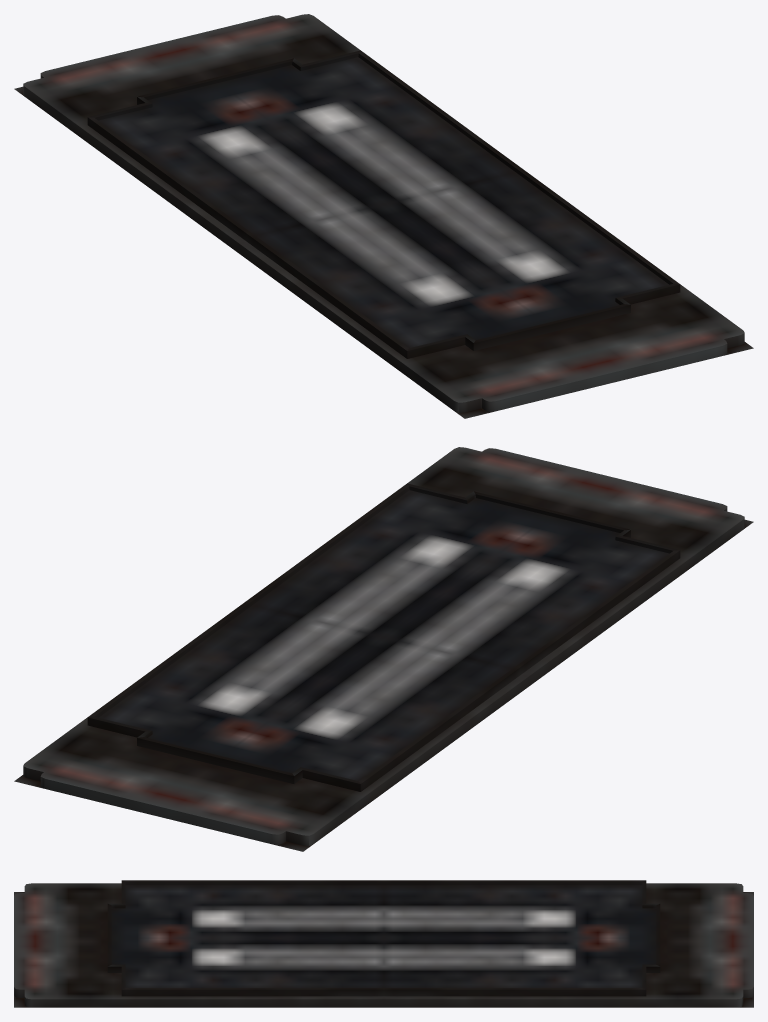
Rendered from Panel_hightech_3.FBX.
3 views of the same model, one above another, from view 1: azimuth 30°, elevation 25°; view 2: azimuth 150°, elevation 25°; view 3: azimuth 270°, elevation 25° (orthographic). The views are drawn at different scales.
Parts seen in each view (by area): view 1: Panel_hightech_3; view 2: Panel_hightech_3; view 3: Panel_hightech_3.
Part boxes in pixels (box(x1,y1,x2,y2)): Panel_hightech_3: box(14, 14, 753, 418); Panel_hightech_3: box(14, 447, 753, 851); Panel_hightech_3: box(14, 880, 753, 1007).
Size of the model in its own units: 111 by 6.56 by 300.
